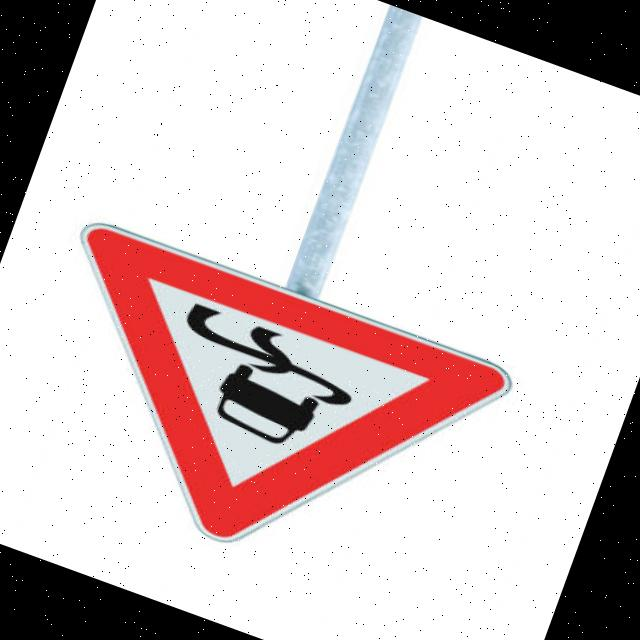road_slippery: (0, 199, 538, 622)
